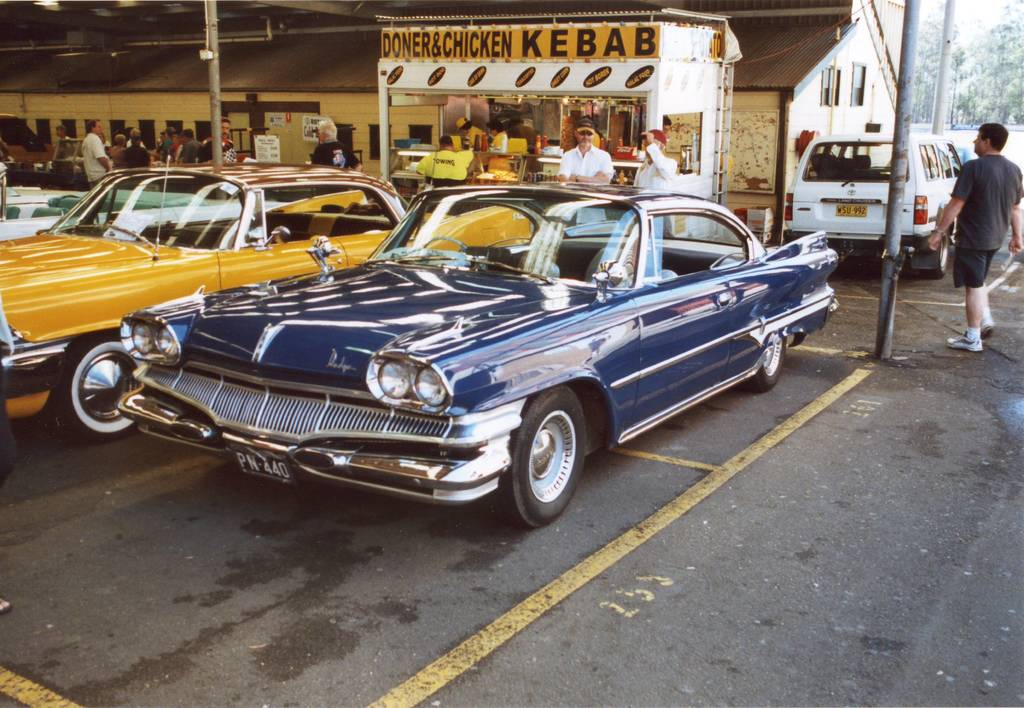Car: (118, 176, 848, 556), (0, 167, 544, 451), (784, 125, 960, 281), (7, 183, 278, 245)
